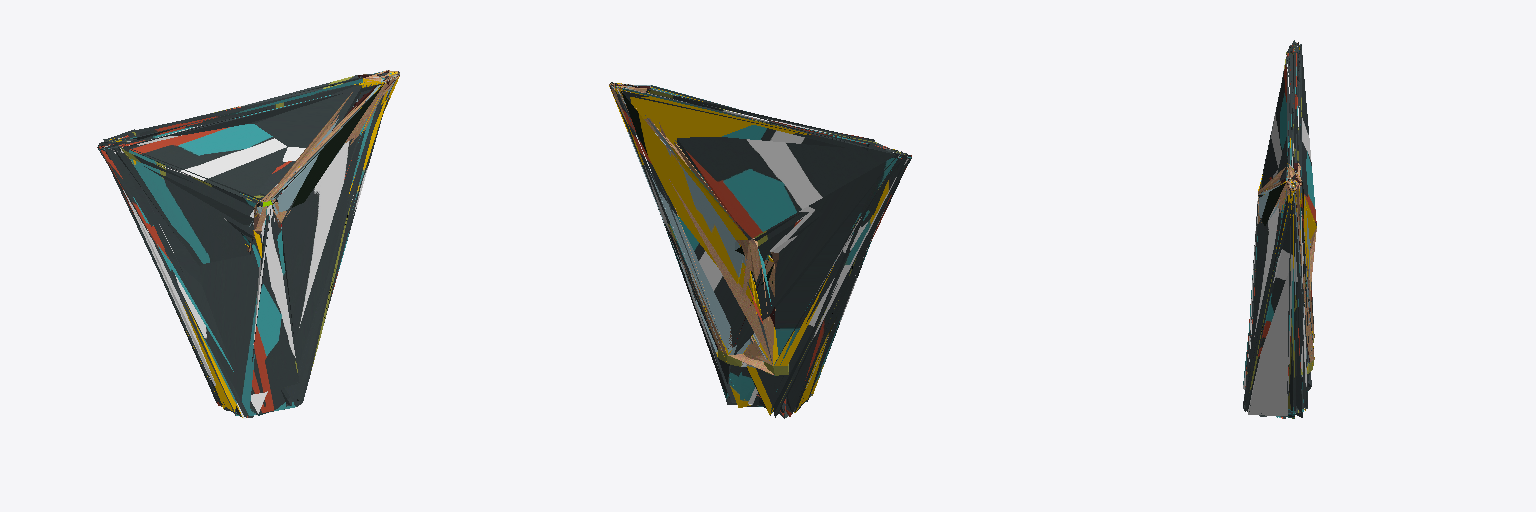
3 renders of one model, left to right at view 1: azimuth 30°, elevation 25°; view 2: azimuth 150°, elevation 25°; view 3: azimuth 270°, elevation 25°, orthographic.
Parts seen in each view (by area): view 1: body, feet, hands, face; view 2: body, feet, face, hands; view 3: body, feet, face.
Part boxes in pixels (left/top/right/bottom): body: left=97, top=70, right=398, bottom=418; feet: left=249, top=72, right=399, bottom=246; hands: left=253, top=70, right=398, bottom=239; face: left=248, top=70, right=399, bottom=251; body: left=610, top=82, right=911, bottom=418; feet: left=609, top=83, right=778, bottom=367; face: left=610, top=83, right=775, bottom=366; hands: left=609, top=83, right=773, bottom=374; body: left=1243, top=40, right=1316, bottom=418; feet: left=1258, top=165, right=1316, bottom=369; face: left=1258, top=163, right=1316, bottom=362.
Bounding box in the file's own units: 7.13 × 6.68 × 1.51.
5 materials, 5 textured.